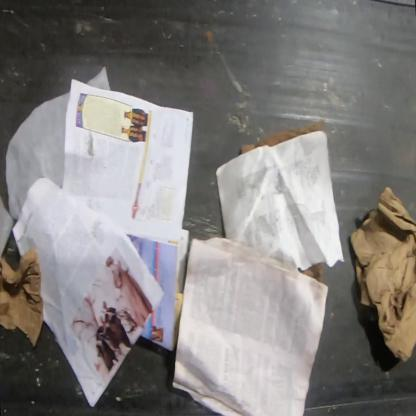cardboard: (348, 185, 415, 366), (0, 244, 46, 351), (243, 116, 327, 154), (298, 261, 324, 283)
